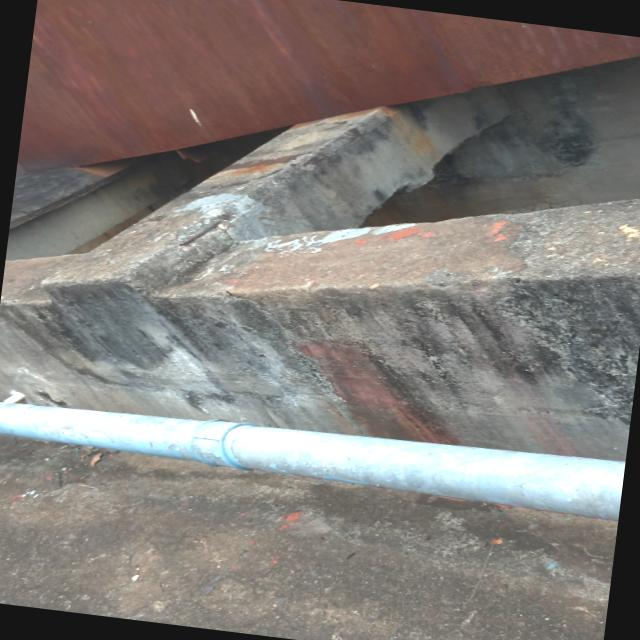gas: (0, 383, 625, 521)
